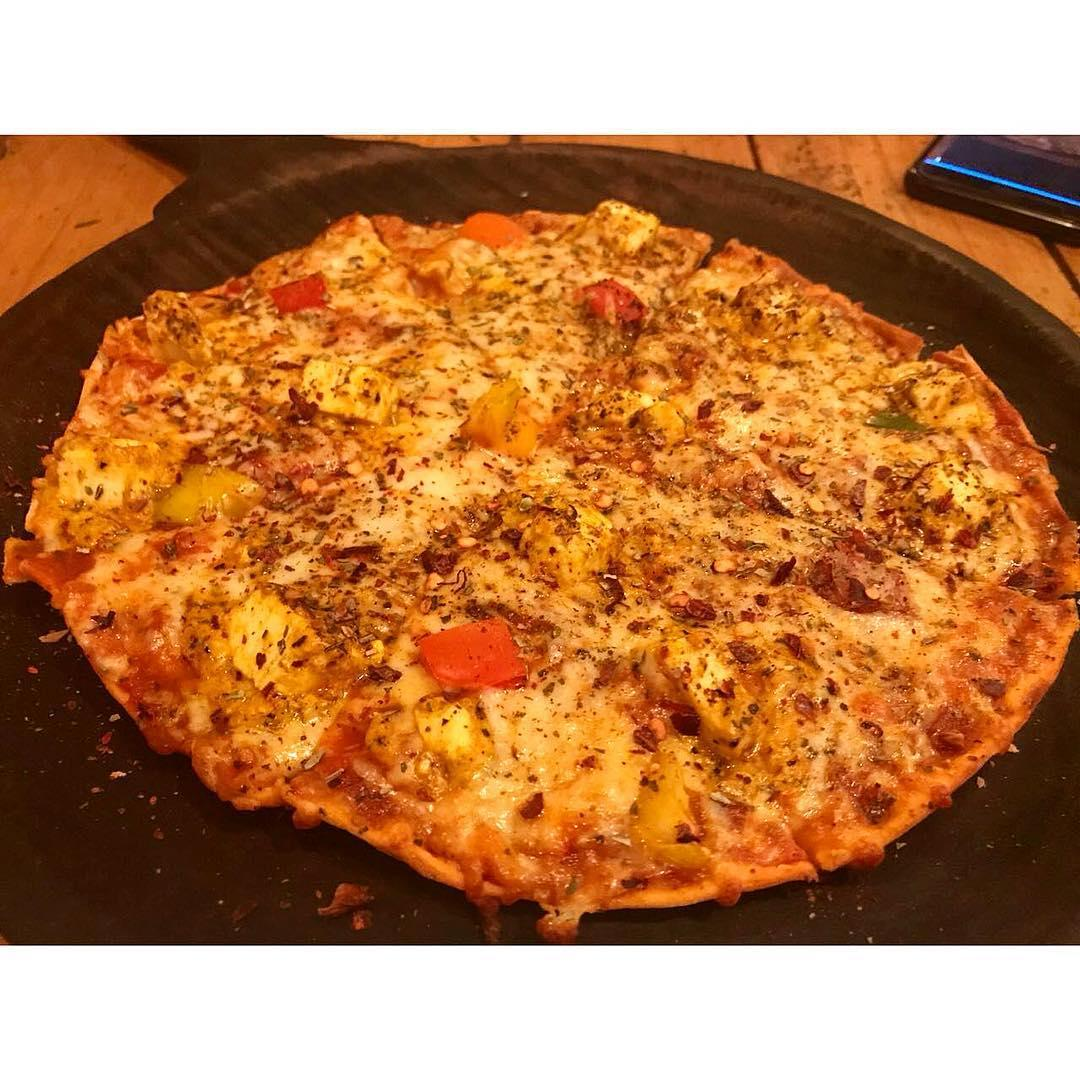Peppers: (625, 741, 715, 877), (415, 612, 538, 701), (450, 367, 556, 465), (150, 450, 276, 532), (261, 267, 340, 323), (582, 273, 656, 331), (457, 200, 535, 248), (628, 391, 684, 444)
Pizza: (45, 218, 1080, 915)
